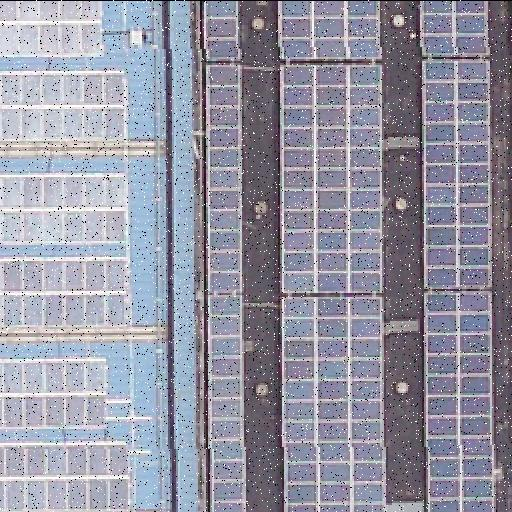solar-panel: (278, 65, 382, 295), (280, 296, 384, 512), (206, 0, 246, 512), (422, 60, 490, 288), (421, 292, 491, 512), (0, 258, 128, 330), (1, 173, 127, 243), (0, 444, 128, 512), (0, 73, 124, 143), (0, 358, 104, 430), (278, 0, 378, 58), (1, 0, 103, 56), (420, 0, 484, 56)
